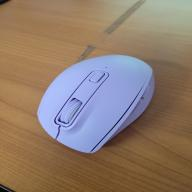mouse: (34, 53, 158, 155)
